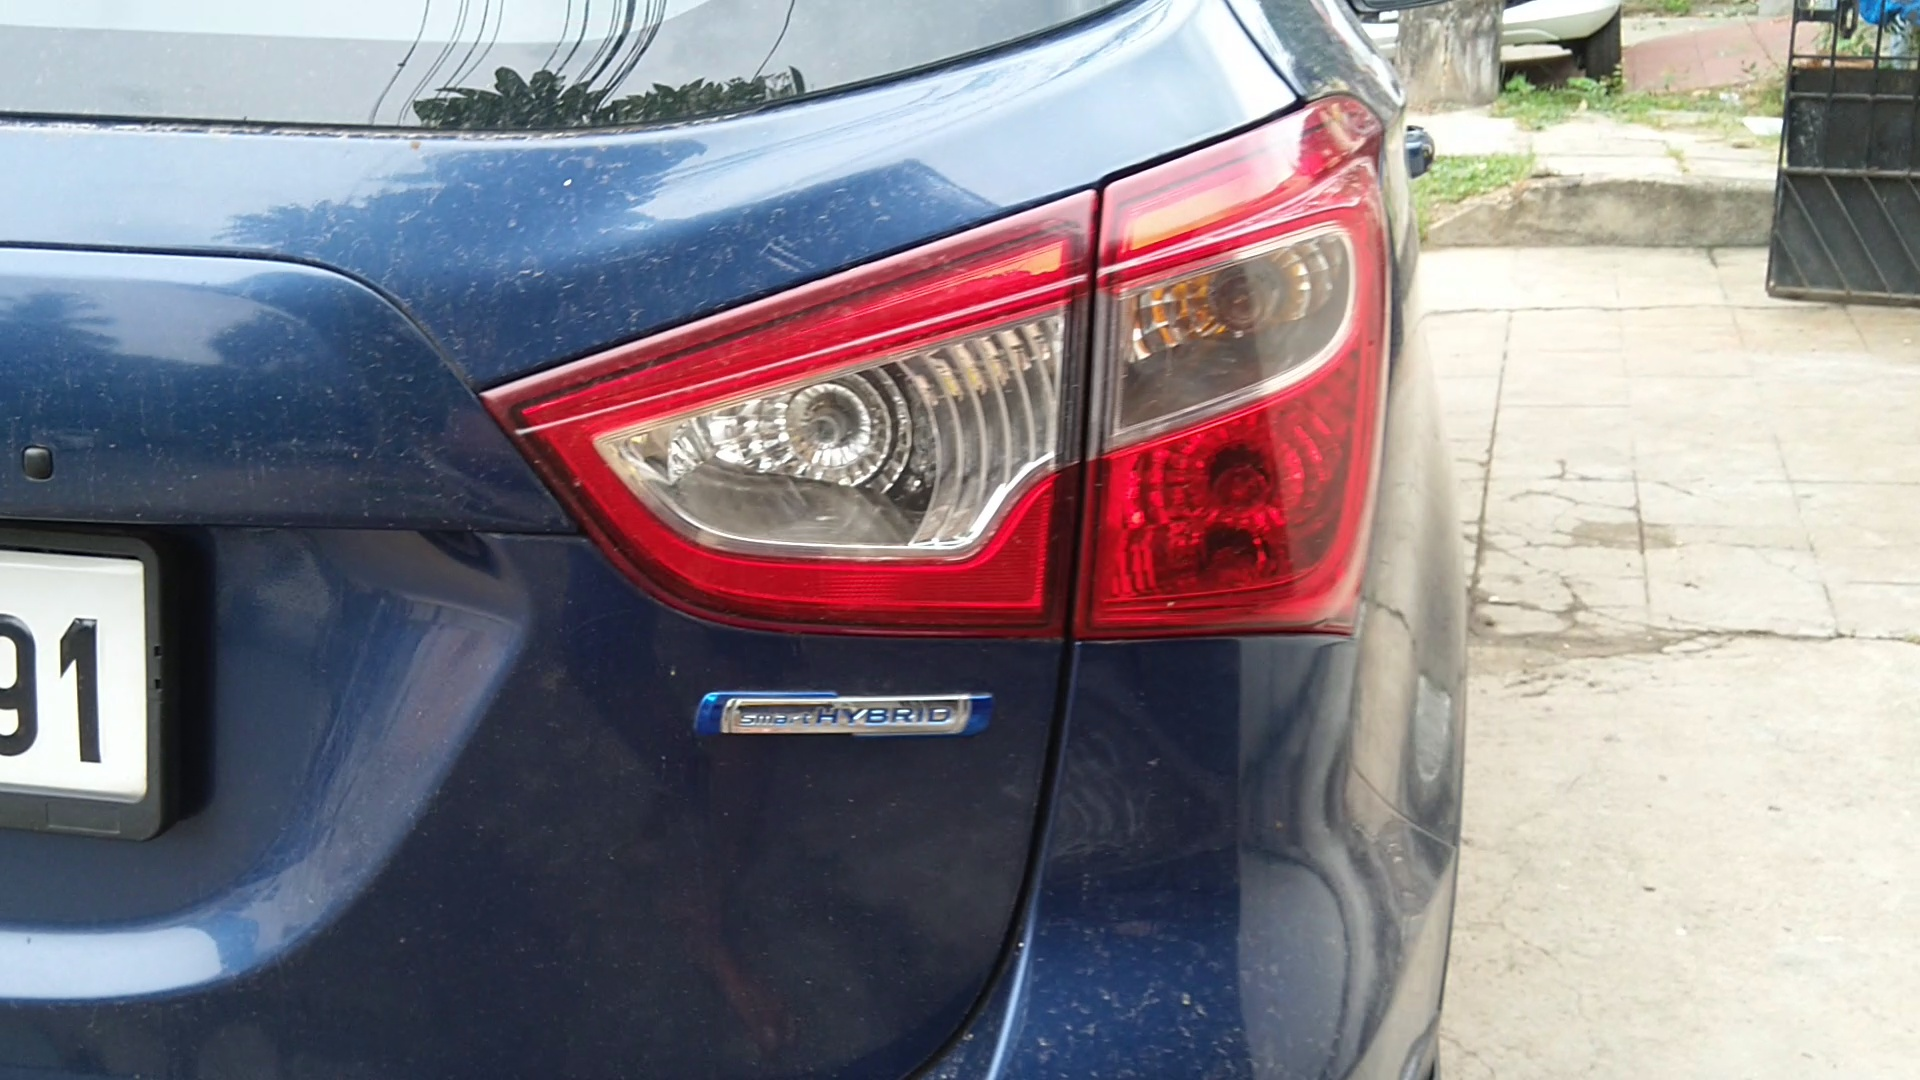shvs: (669, 655, 1026, 790)
